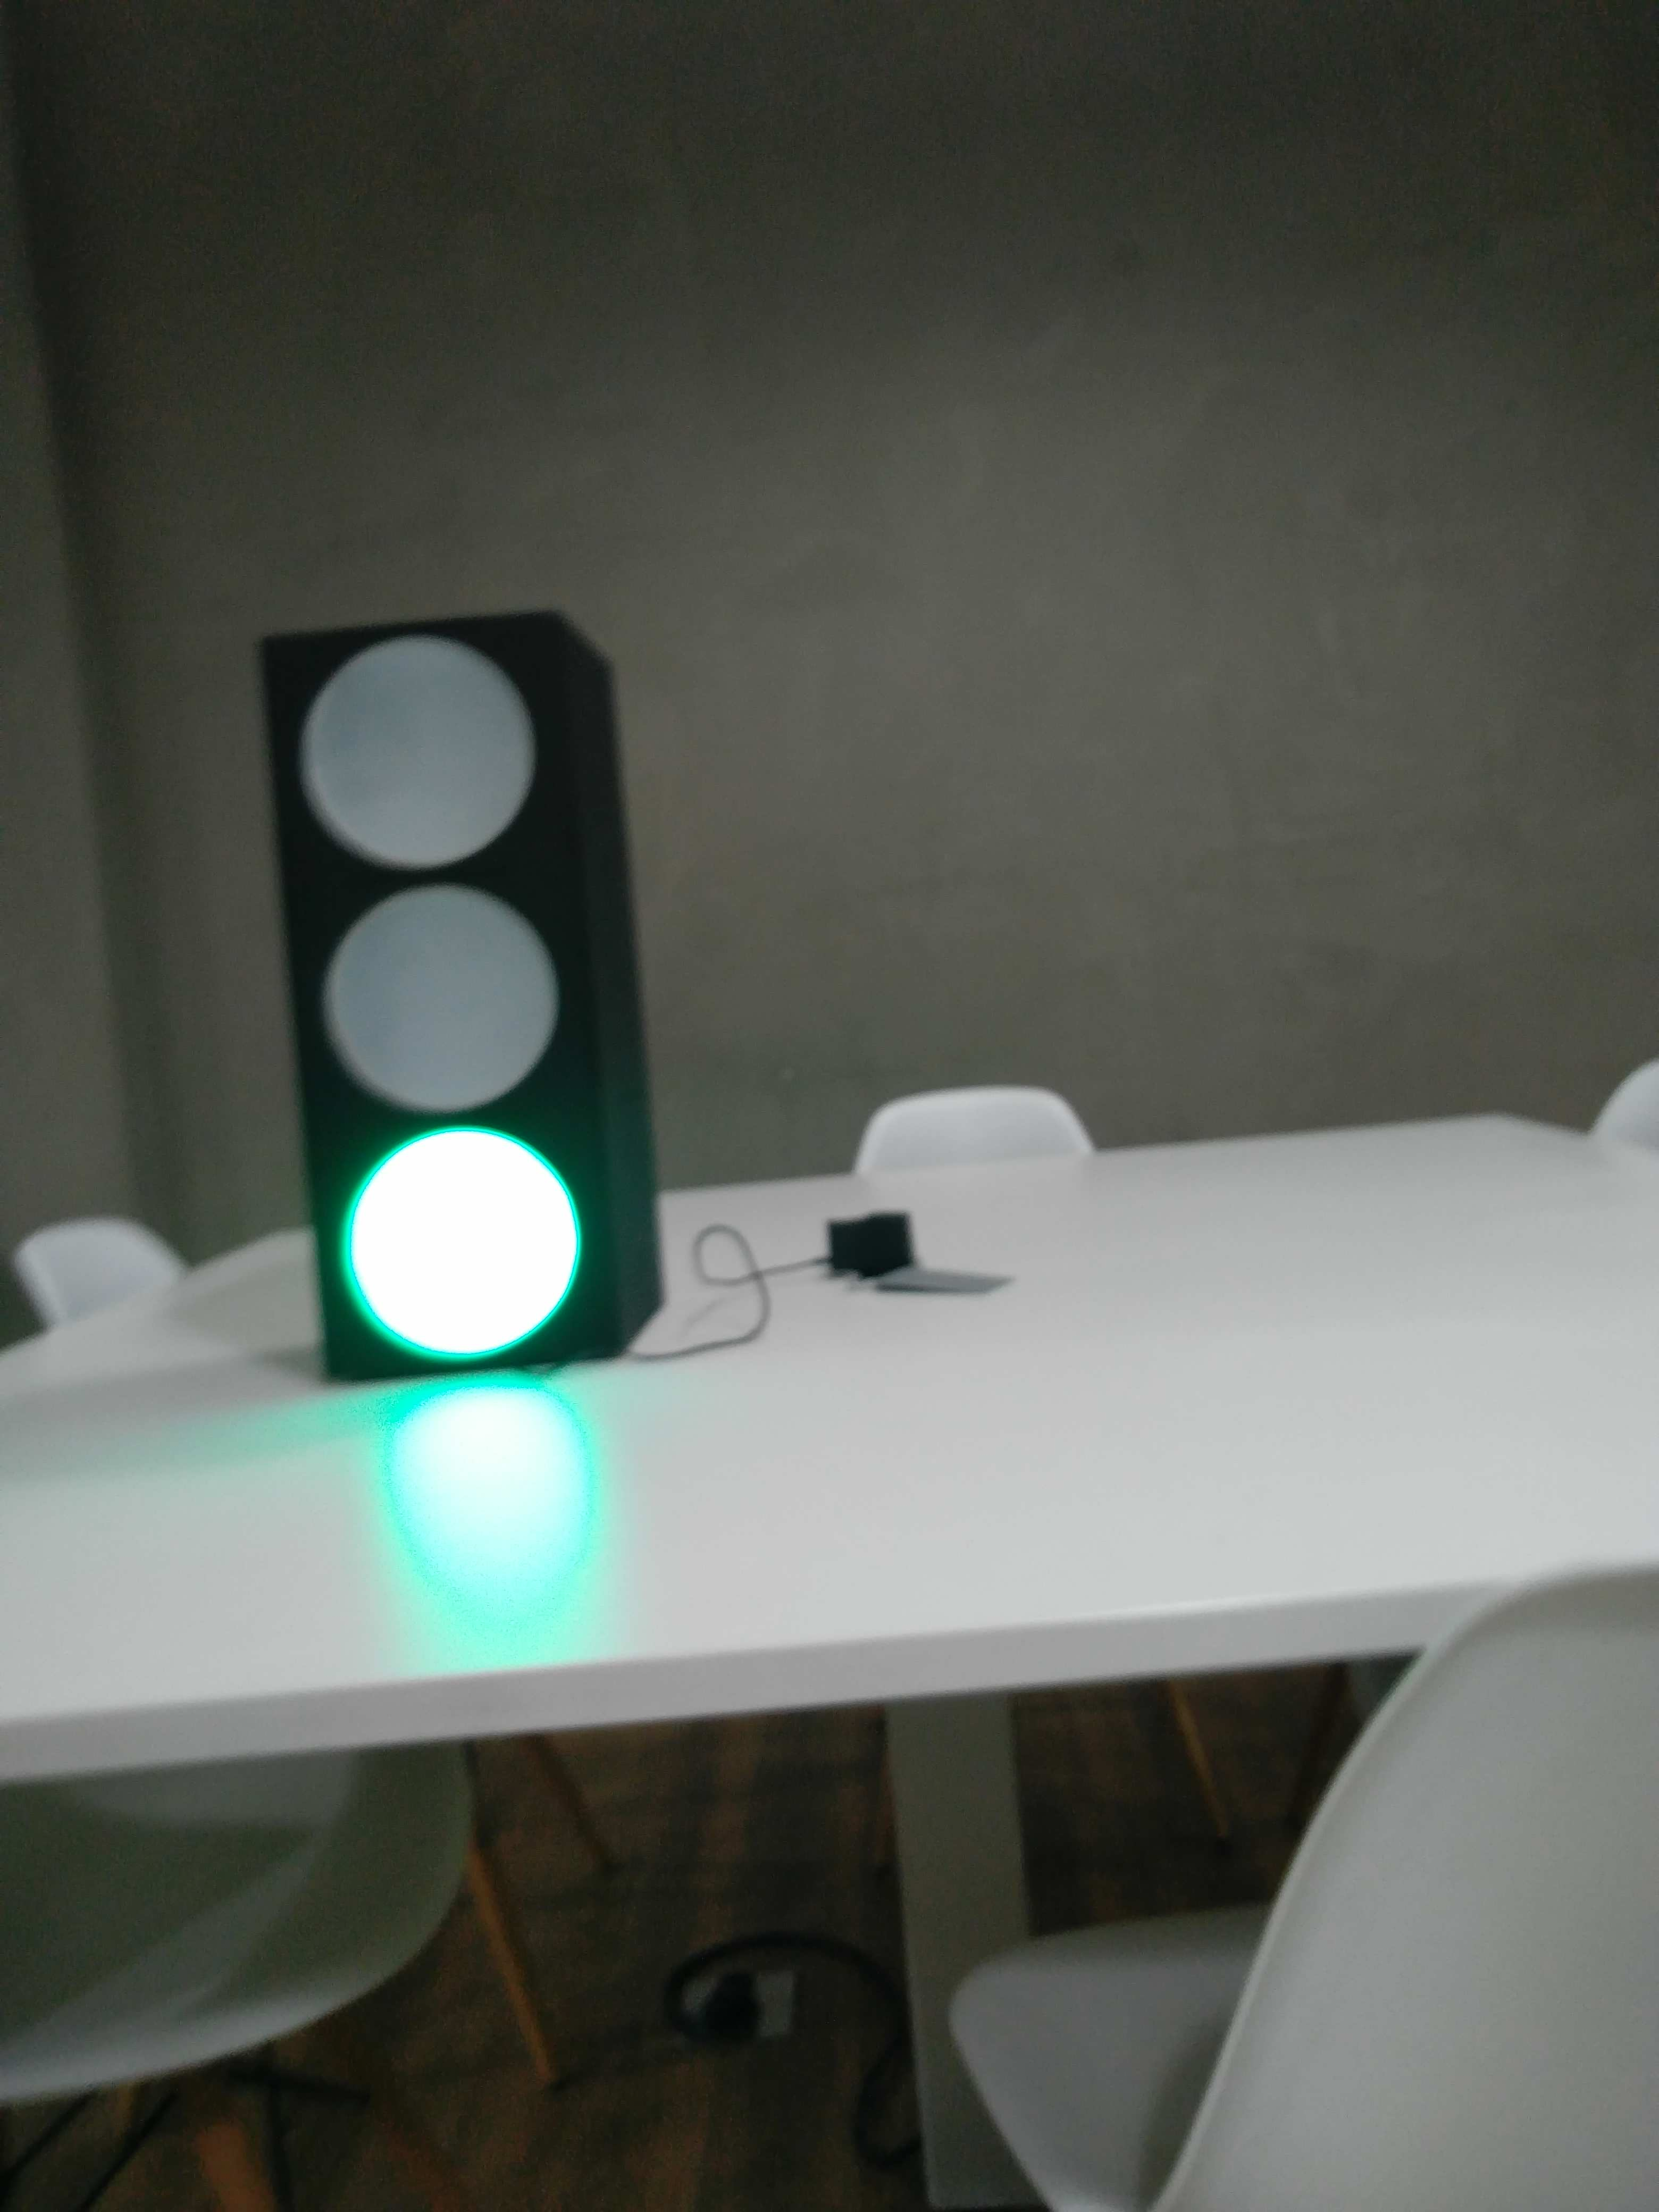go: (254, 608, 673, 1393)
